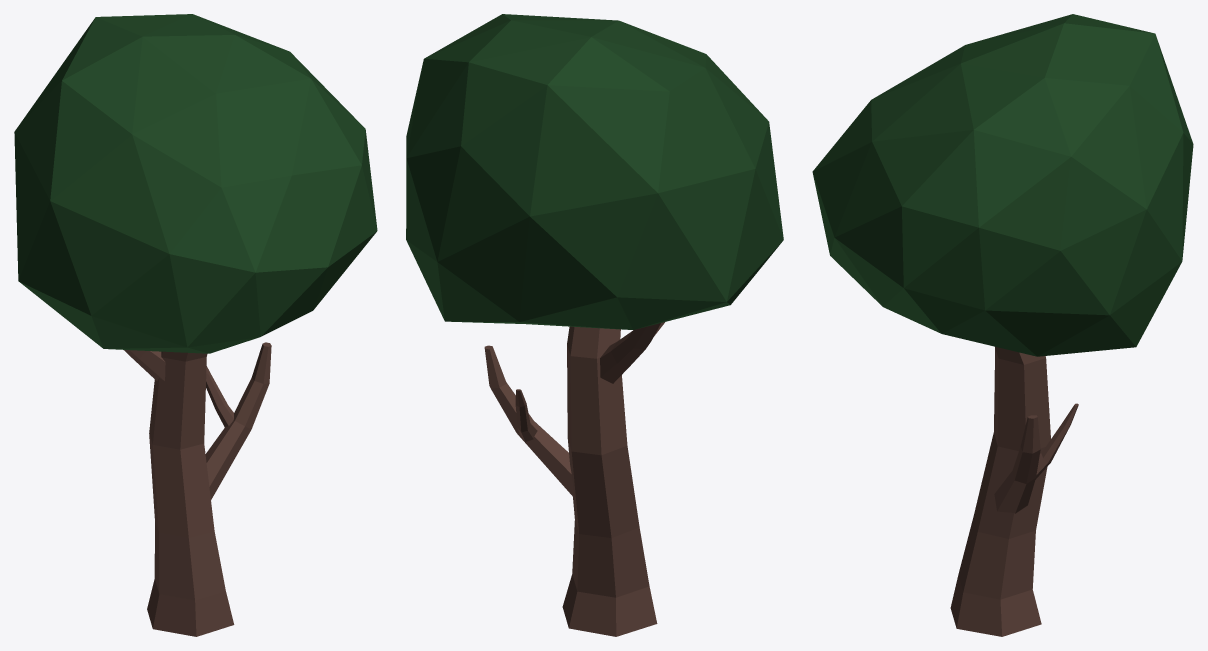
The model's file is ForestTree(3).fbx.
3 views of the same model, side by side, from view 1: azimuth 30°, elevation 25°; view 2: azimuth 150°, elevation 25°; view 3: azimuth 270°, elevation 25° (orthographic). The views are drawn at different scales.
Parts seen in each view (by area): view 1: ForestTree(3); view 2: ForestTree(3); view 3: ForestTree(3).
Part boxes in pixels (bbox=[...]): ForestTree(3): bbox=[14, 14, 377, 636]; ForestTree(3): bbox=[406, 14, 783, 636]; ForestTree(3): bbox=[812, 14, 1193, 636].
Bounding box in the file's own units: 2.81 × 4.9 × 2.89.
